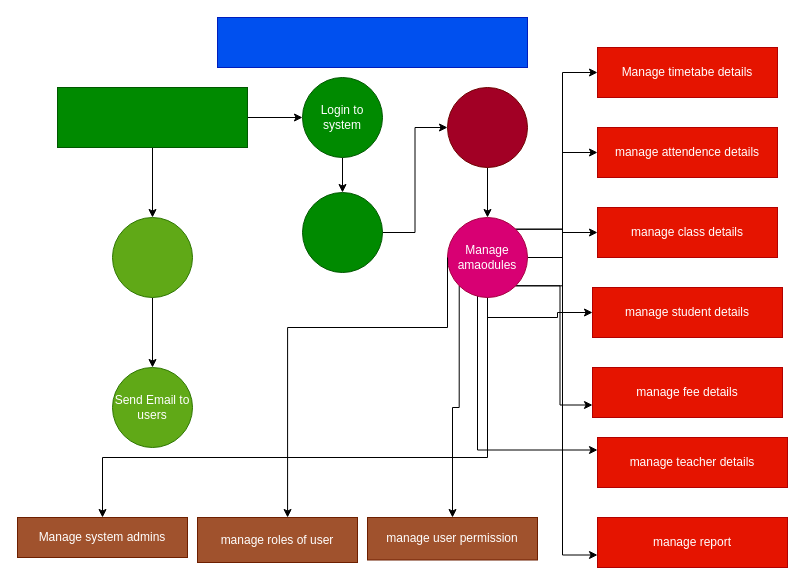
The diagram is 805 pixels wide and 585 high, and some of its shapes have lost their labels. The shapes that lost their labels are listed below. From the top down, each one's centre as x and y in pixels, then its label:
At [372,42]: "STUDENT INFORMATION SYSTEM".
At [152,117]: "Admin".
At [487,127]: "Check Roles of Acess".
At [342,232]: "Check Credentials".
At [152,257]: "Forget Password".
